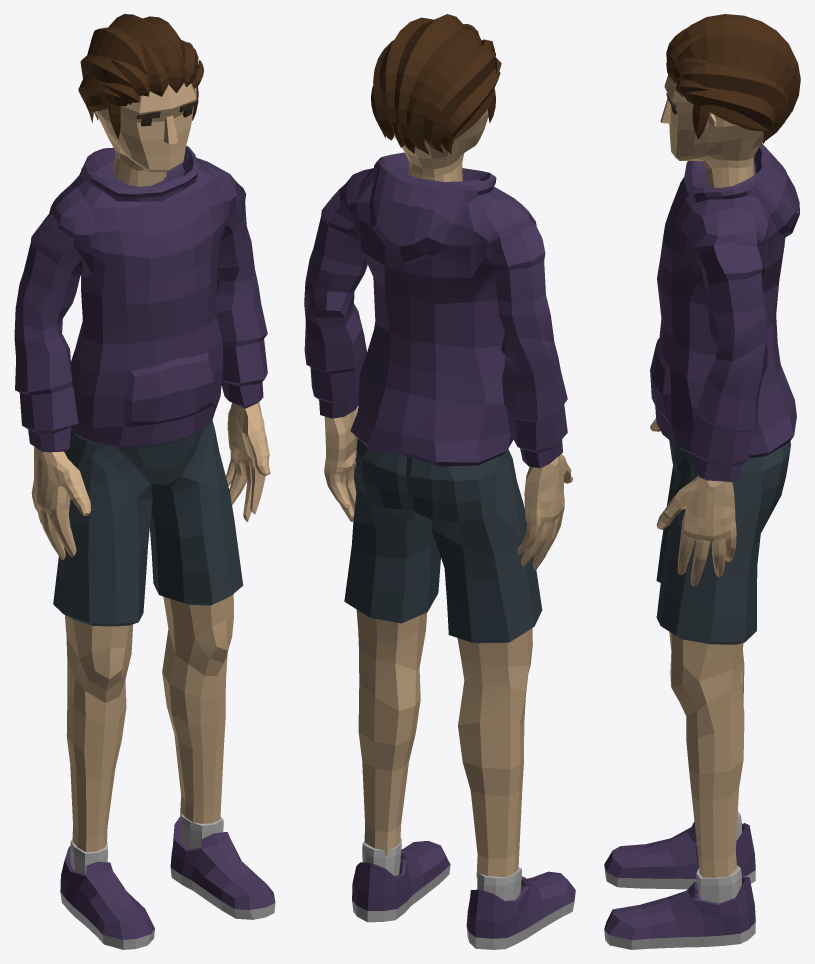
The model's file is hoodie-man.glb.
The picture shows the model from 3 angles, left to right: view 1: azimuth 30°, elevation 25°; view 2: azimuth 150°, elevation 25°; view 3: azimuth 270°, elevation 25°; orthographic projection. The views are drawn at different scales.
Visible parts, largest first — view 1: Casual_Body, Casual_Legs, Casual_Head, Casual_Feet; view 2: Casual_Body, Casual_Legs, Casual_Head, Casual_Feet; view 3: Casual_Body, Casual_Legs, Casual_Head, Casual_Feet.
Boxes of the visible parts, x1,y1,x2,y2 form: Casual_Body: (14, 146, 270, 560); Casual_Legs: (53, 420, 243, 852); Casual_Head: (78, 14, 203, 186); Casual_Feet: (60, 813, 275, 949); Casual_Body: (304, 152, 573, 570); Casual_Legs: (344, 438, 542, 877); Casual_Head: (371, 14, 501, 181); Casual_Feet: (352, 838, 575, 949); Casual_Body: (650, 144, 799, 586); Casual_Legs: (656, 440, 790, 877); Casual_Head: (660, 14, 800, 187); Casual_Feet: (604, 812, 755, 949).
Bounding box in the file's own units: 0.5443 × 1.86 × 0.3725.
